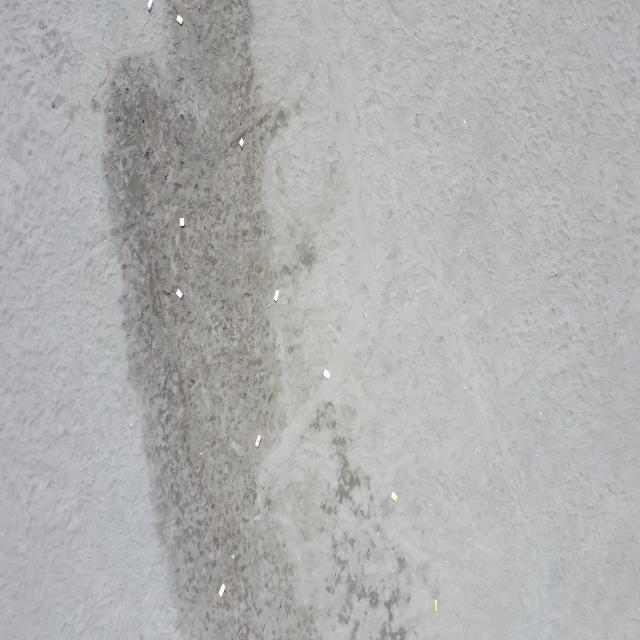retort-pouch: (218, 583, 226, 600), (323, 365, 331, 381), (272, 288, 280, 304), (254, 433, 262, 449), (175, 286, 183, 301), (238, 137, 246, 152), (432, 597, 439, 614), (147, 0, 154, 15), (177, 12, 184, 27), (179, 216, 186, 229), (391, 490, 398, 503)
